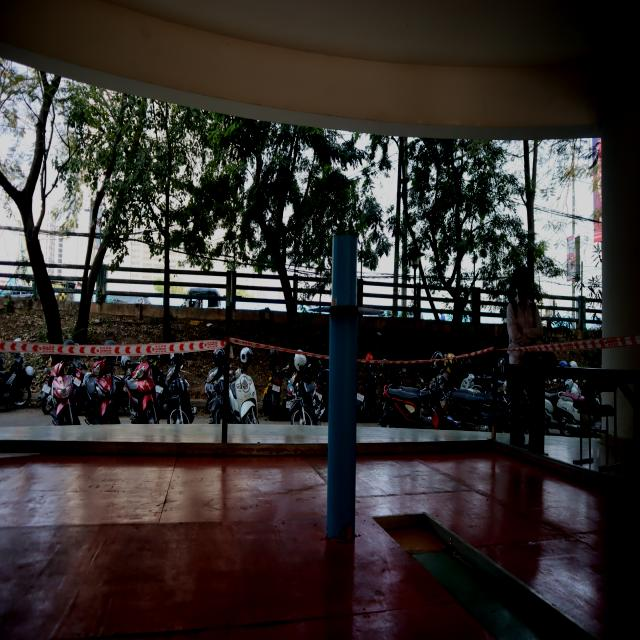pole: (301, 230, 385, 422)
